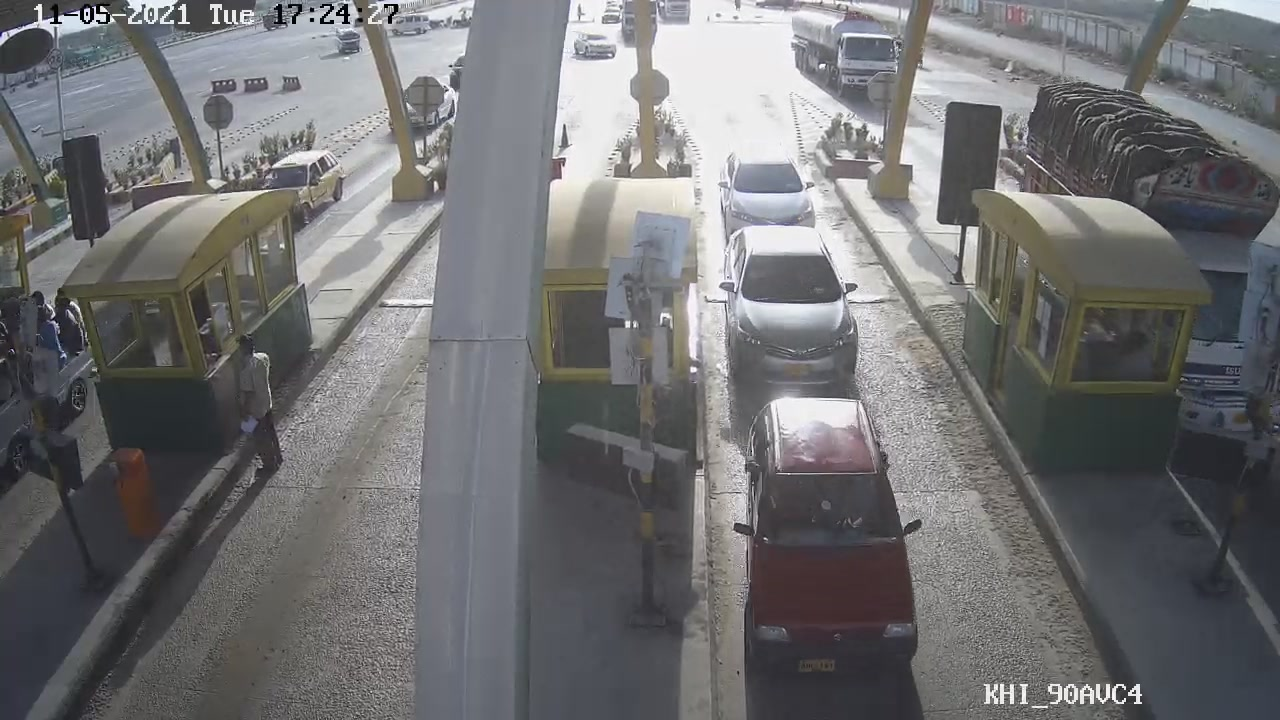F1: (728, 390, 931, 691), (713, 223, 880, 387)
